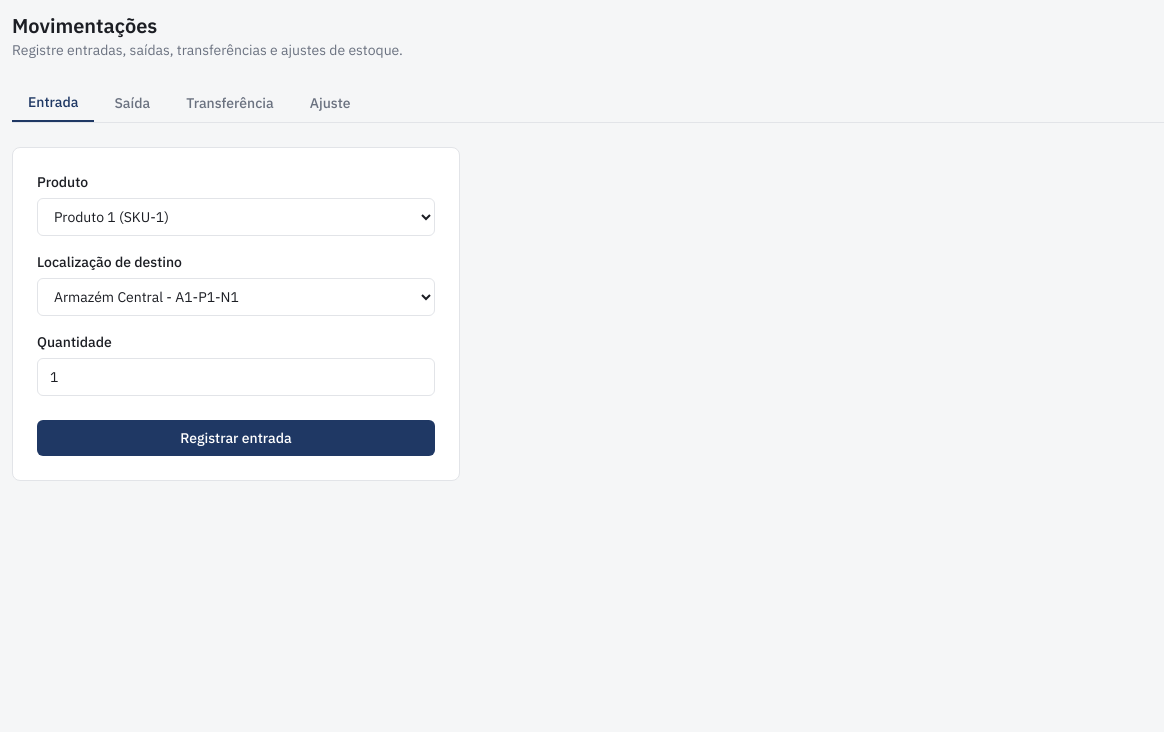
MovimentacoesPage › mostra o erro da API quando a movimentação falha (ex.: saldo insuficiente)
Expected: the dropdown labelled "Localização de destino" is shown, [37, 278, 435, 316]
Step 1. Click the button "Saída" → (132, 103), box [98, 84, 166, 122]
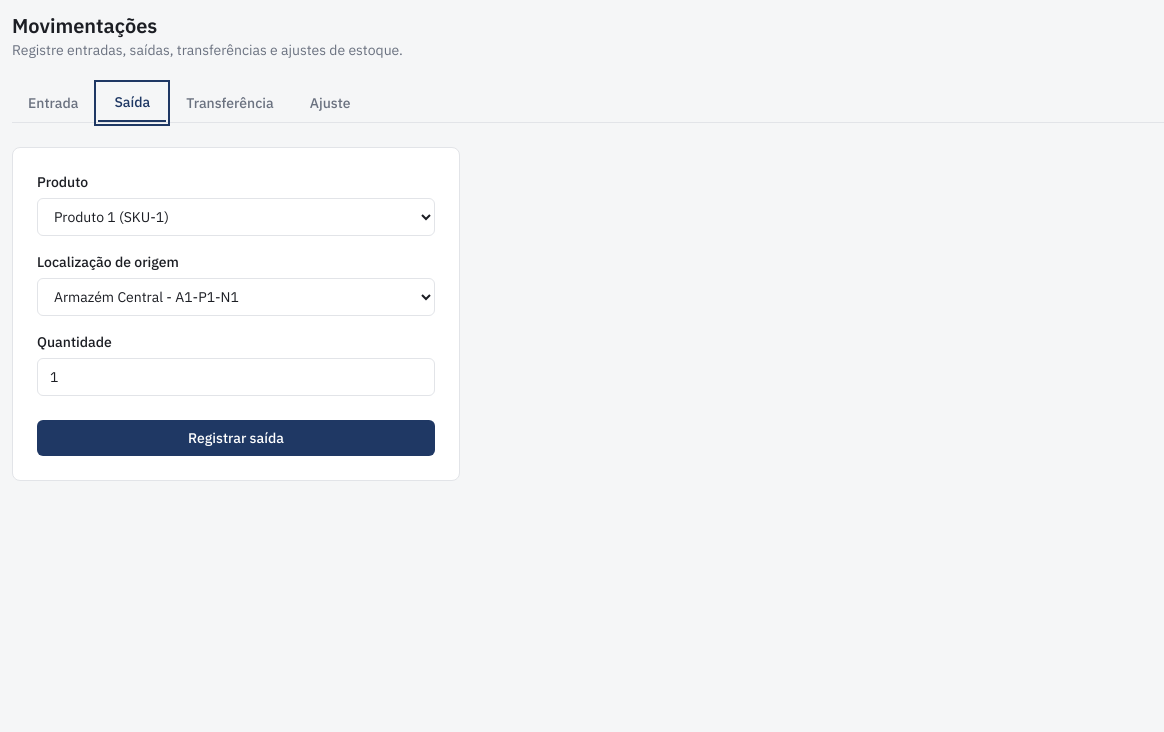
Step 2. Click the button "Registrar saída" → (236, 438), box [37, 420, 435, 456]
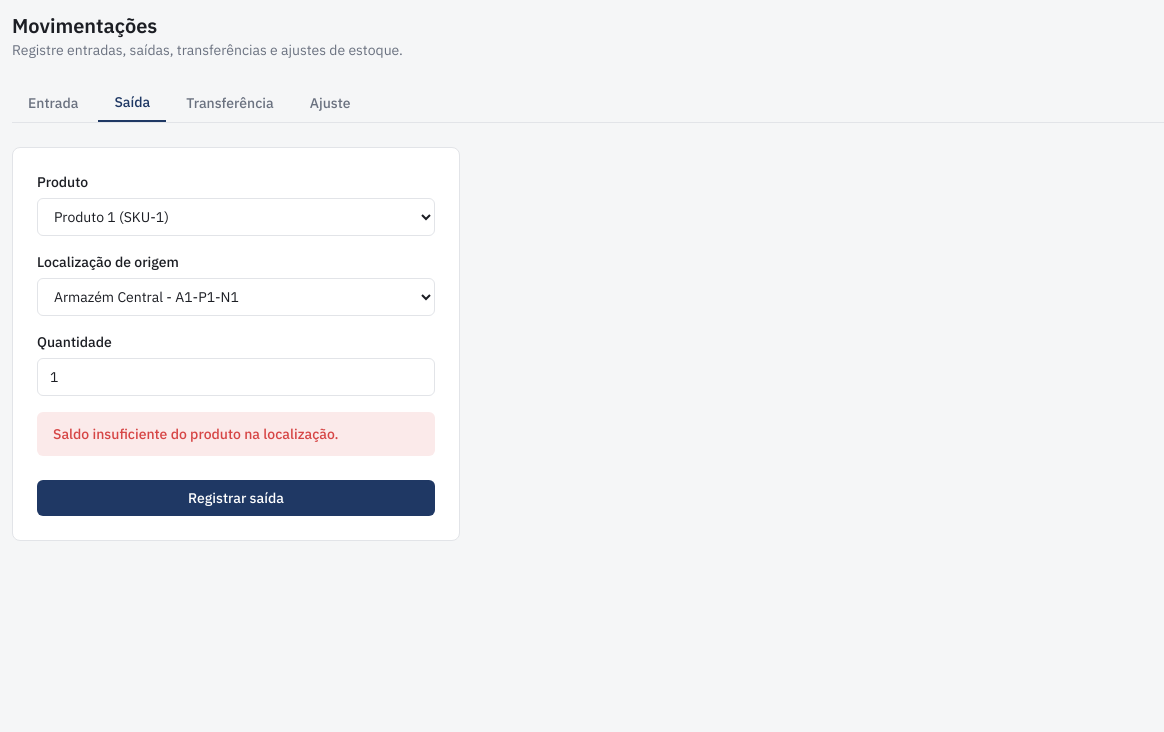
Expected: the message reads "Saldo insuficiente do produto na localização.", [53, 425, 339, 443]
